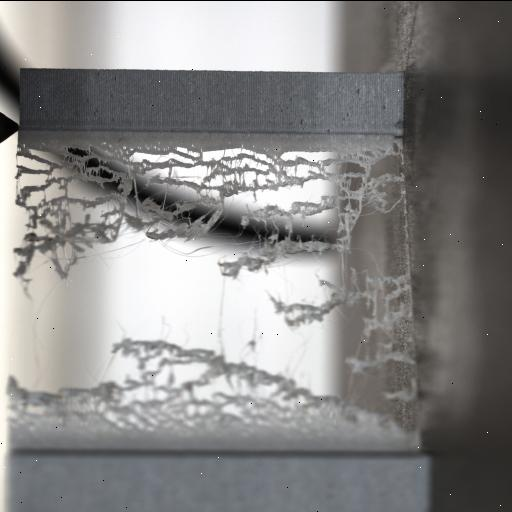stringing: (5, 330, 414, 438), (151, 146, 395, 200), (256, 258, 410, 334), (210, 197, 360, 275), (15, 148, 150, 220), (312, 147, 404, 241), (8, 376, 152, 428), (12, 216, 106, 286), (88, 385, 214, 433), (106, 338, 226, 388), (142, 200, 229, 250), (344, 342, 418, 374), (215, 248, 277, 278)
